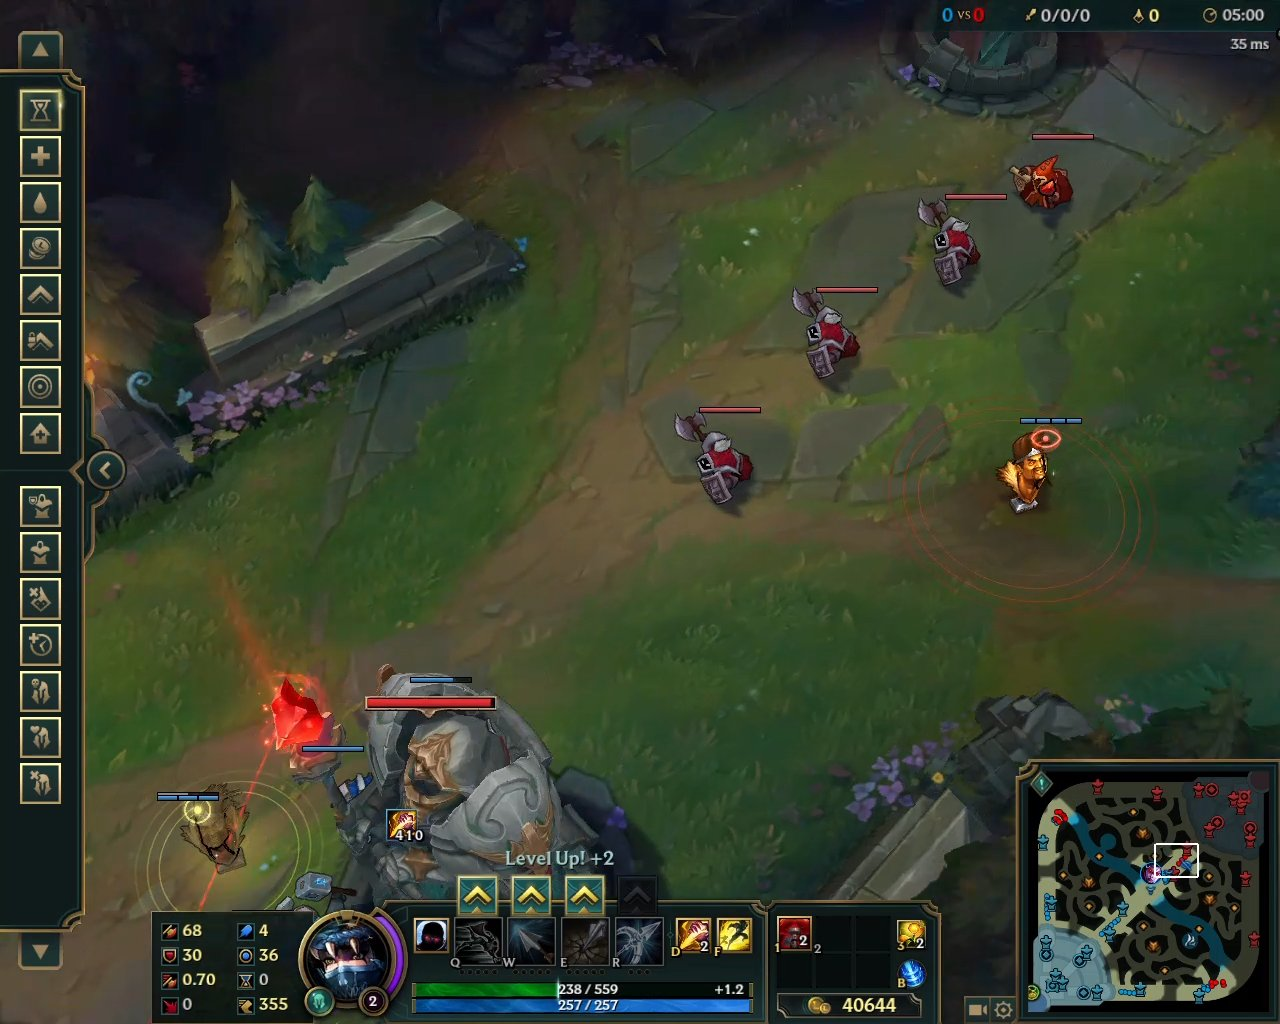EnemyMinion: (664, 408, 765, 515), (905, 194, 1008, 290), (786, 285, 878, 382), (1000, 135, 1092, 215)
Tower: (263, 666, 600, 872)
